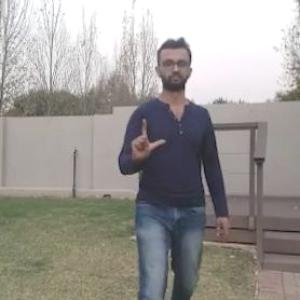land_hand: (126, 114, 170, 166)
